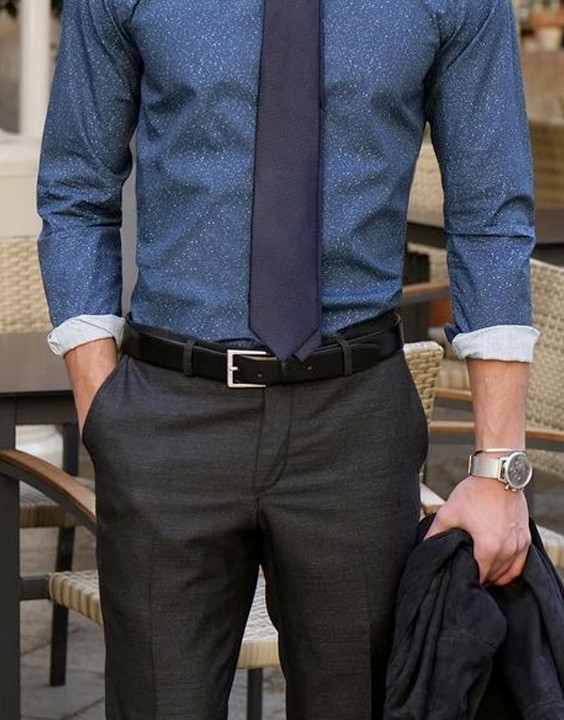F_belt: (105, 322, 415, 389)
F_dress pants: (64, 390, 446, 700)
F_shirt: (33, 1, 528, 349)
F_tie: (247, 5, 345, 371)
